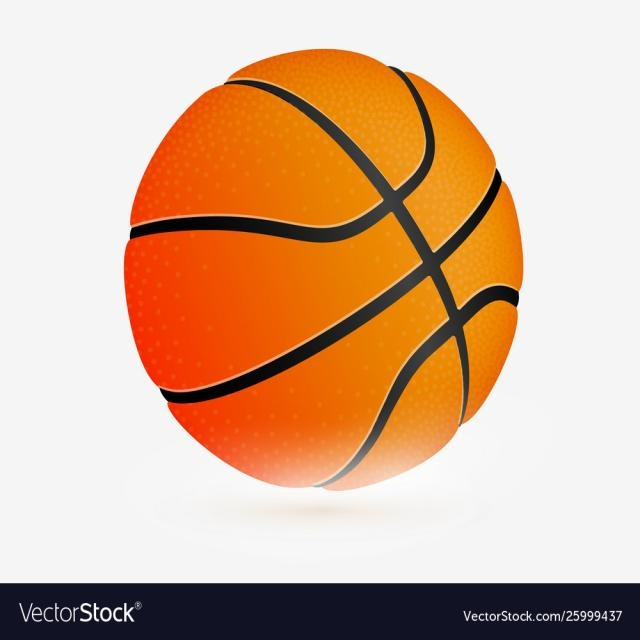agrume: (81, 48, 599, 522)
